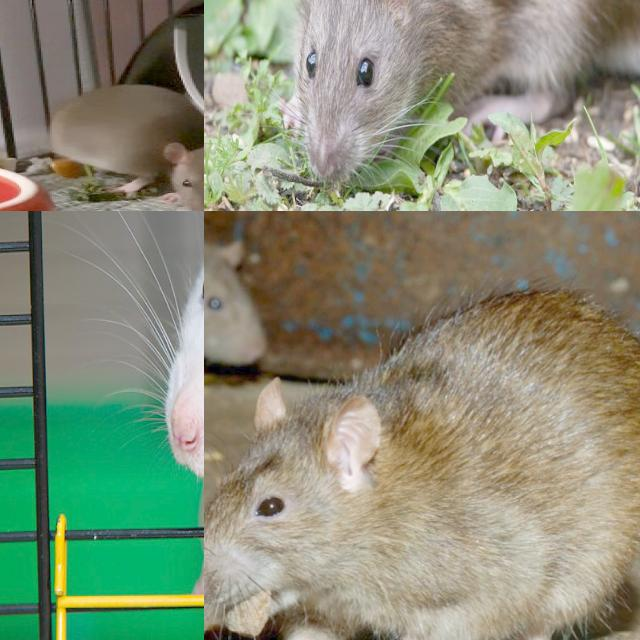rat: (204, 275, 640, 640), (292, 0, 640, 183), (159, 211, 204, 640), (47, 86, 204, 198), (152, 131, 204, 211)
